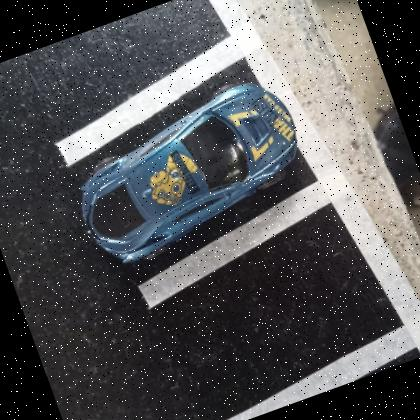Car: (81, 84, 300, 268)
